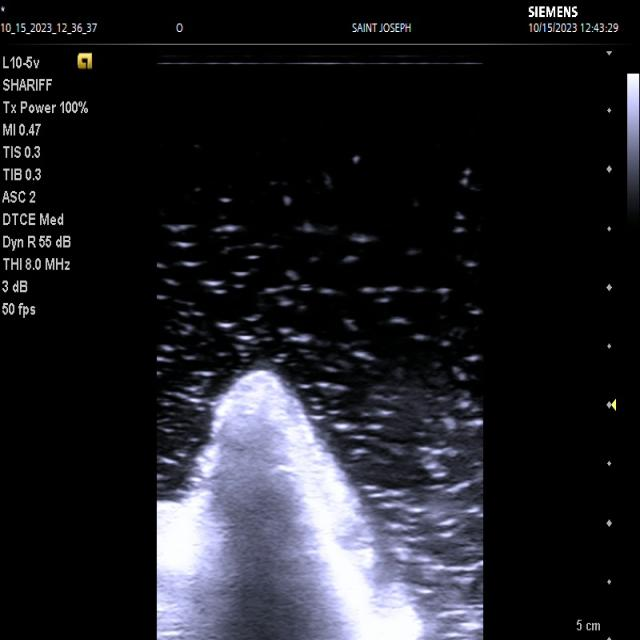tissue: (157, 369, 396, 640)
